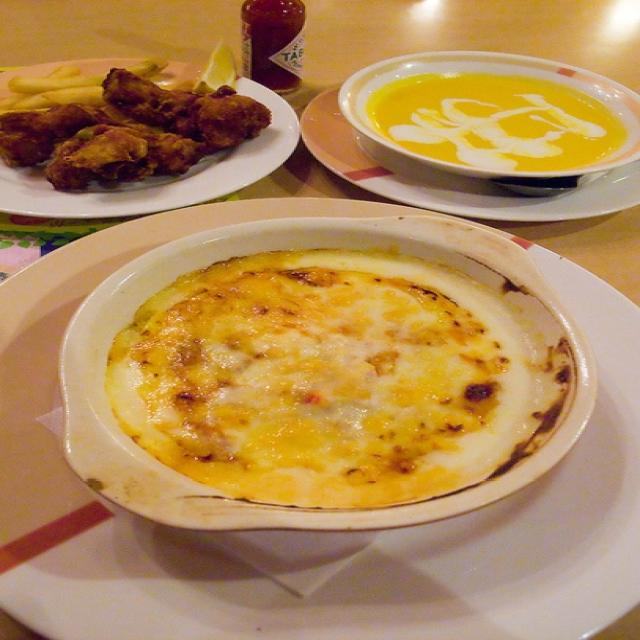米饭主食: (42, 122, 618, 570)
